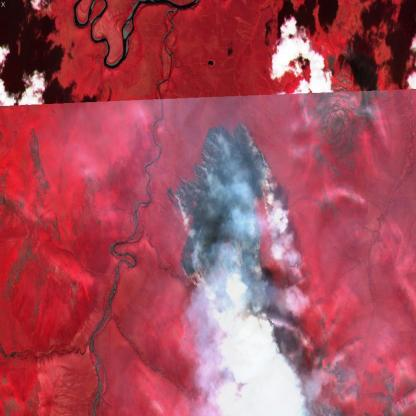fire: (162, 114, 274, 292)
